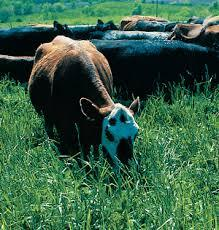cow: (27, 37, 140, 179), (89, 39, 210, 97)
